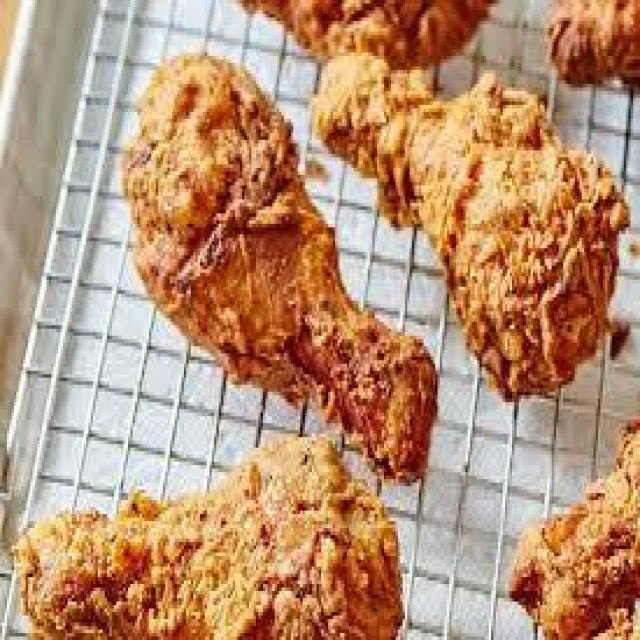Frango: (130, 39, 440, 493), (310, 25, 619, 395), (21, 423, 407, 640)
